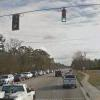Traffic light: (6, 8, 28, 38)
